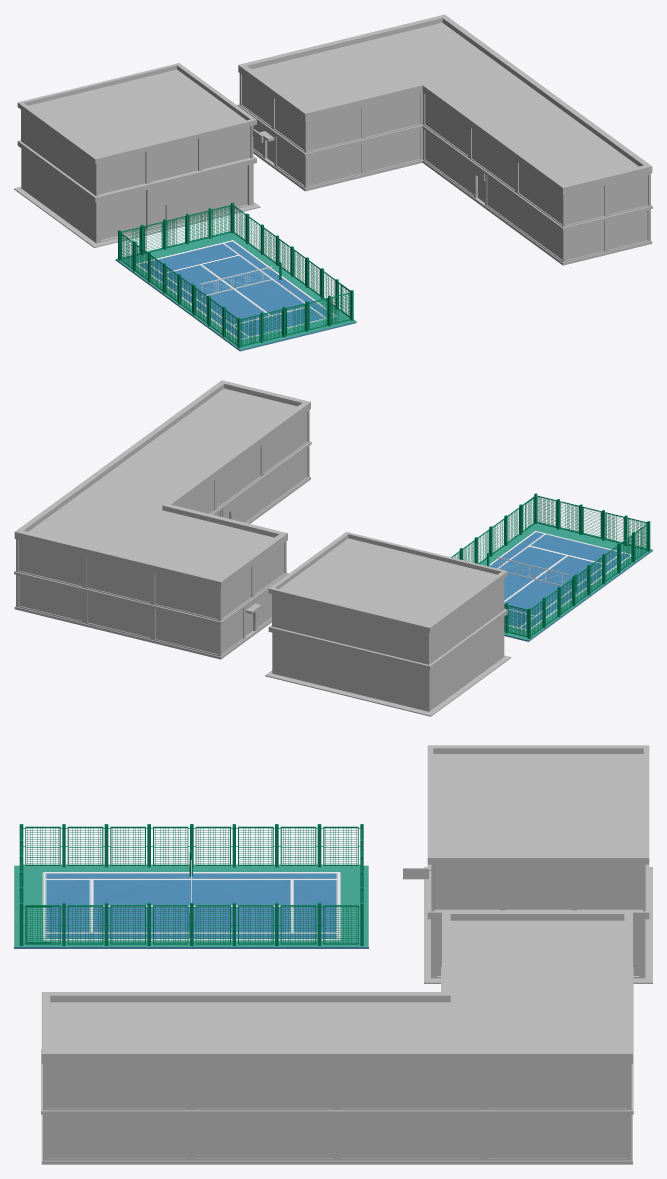
File: UnlockableBuildings.fbx
The picture shows the model from 3 angles, top to bottom: view 1: azimuth 30°, elevation 25°; view 2: azimuth 150°, elevation 25°; view 3: azimuth 270°, elevation 25°; orthographic projection. The views are drawn at different scales.
Parts seen in each view (by area): view 1: TechParkBuildingRightUp, TechParkBuildingLeftUp, SportGround; view 2: TechParkBuildingRightUp, TechParkBuildingLeftUp, SportGround; view 3: TechParkBuildingRightUp, TechParkBuildingLeftUp, SportGround.
Part boxes in pixels (box(x1,y1,x2,y2)): TechParkBuildingRightUp: box(237, 14, 652, 265); TechParkBuildingLeftUp: box(14, 63, 263, 247); SportGround: box(115, 202, 356, 351); TechParkBuildingRightUp: box(14, 380, 311, 659); TechParkBuildingLeftUp: box(265, 532, 511, 716); SportGround: box(451, 493, 652, 641); TechParkBuildingRightUp: box(41, 910, 633, 1164); TechParkBuildingLeftUp: box(403, 745, 652, 983); SportGround: box(14, 824, 368, 948).
Bounding box in the file's own units: 94.46 × 18.78 × 86.44.
